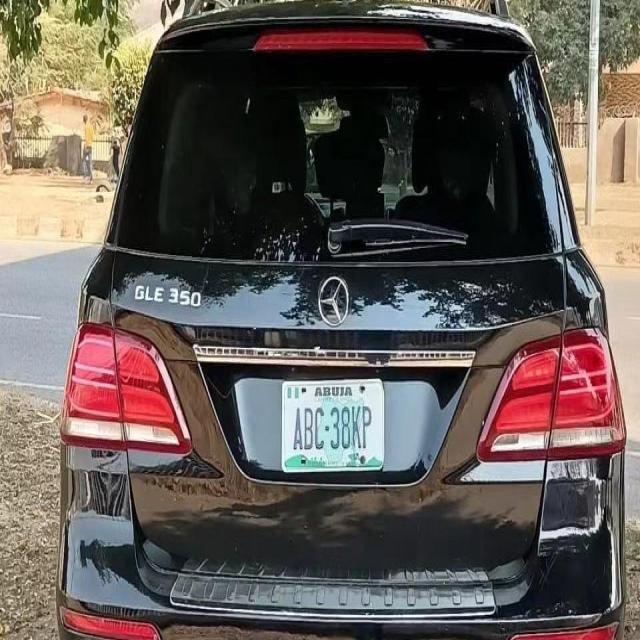Nigerian License Plate - vdataset benjamin-daria: (283, 377, 384, 473)
